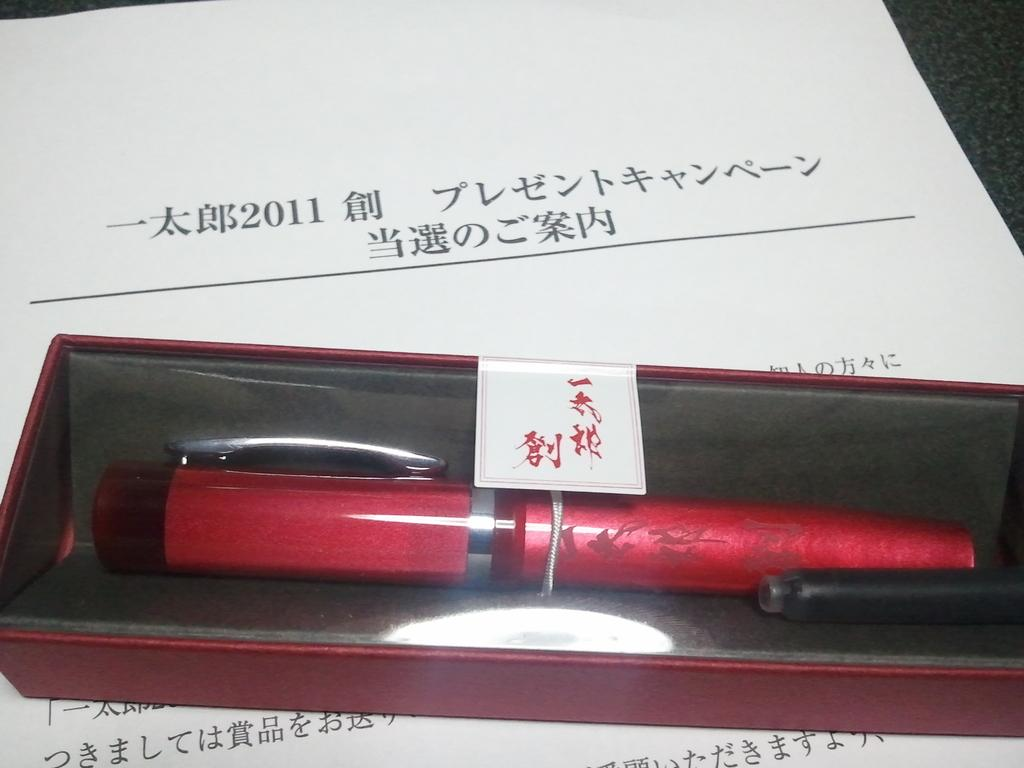pen: (91, 435, 980, 586)
